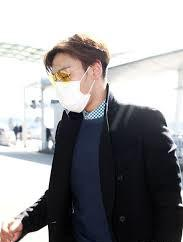OK: (52, 61, 96, 117)
